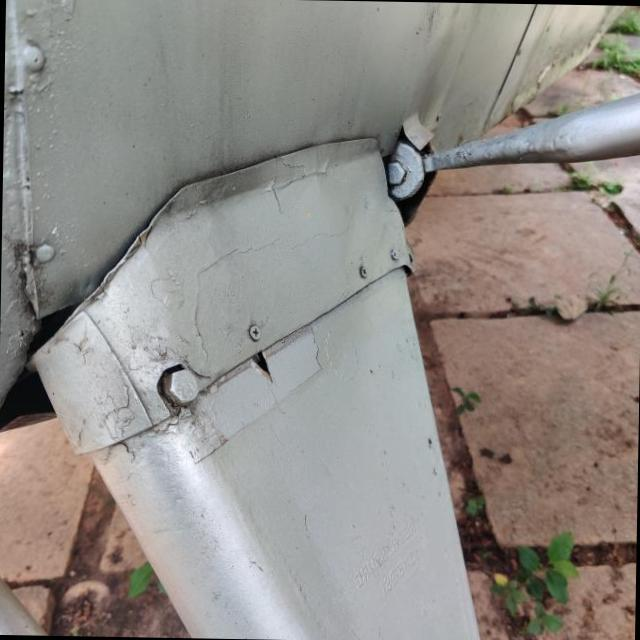Rupture: (220, 318, 294, 402)
